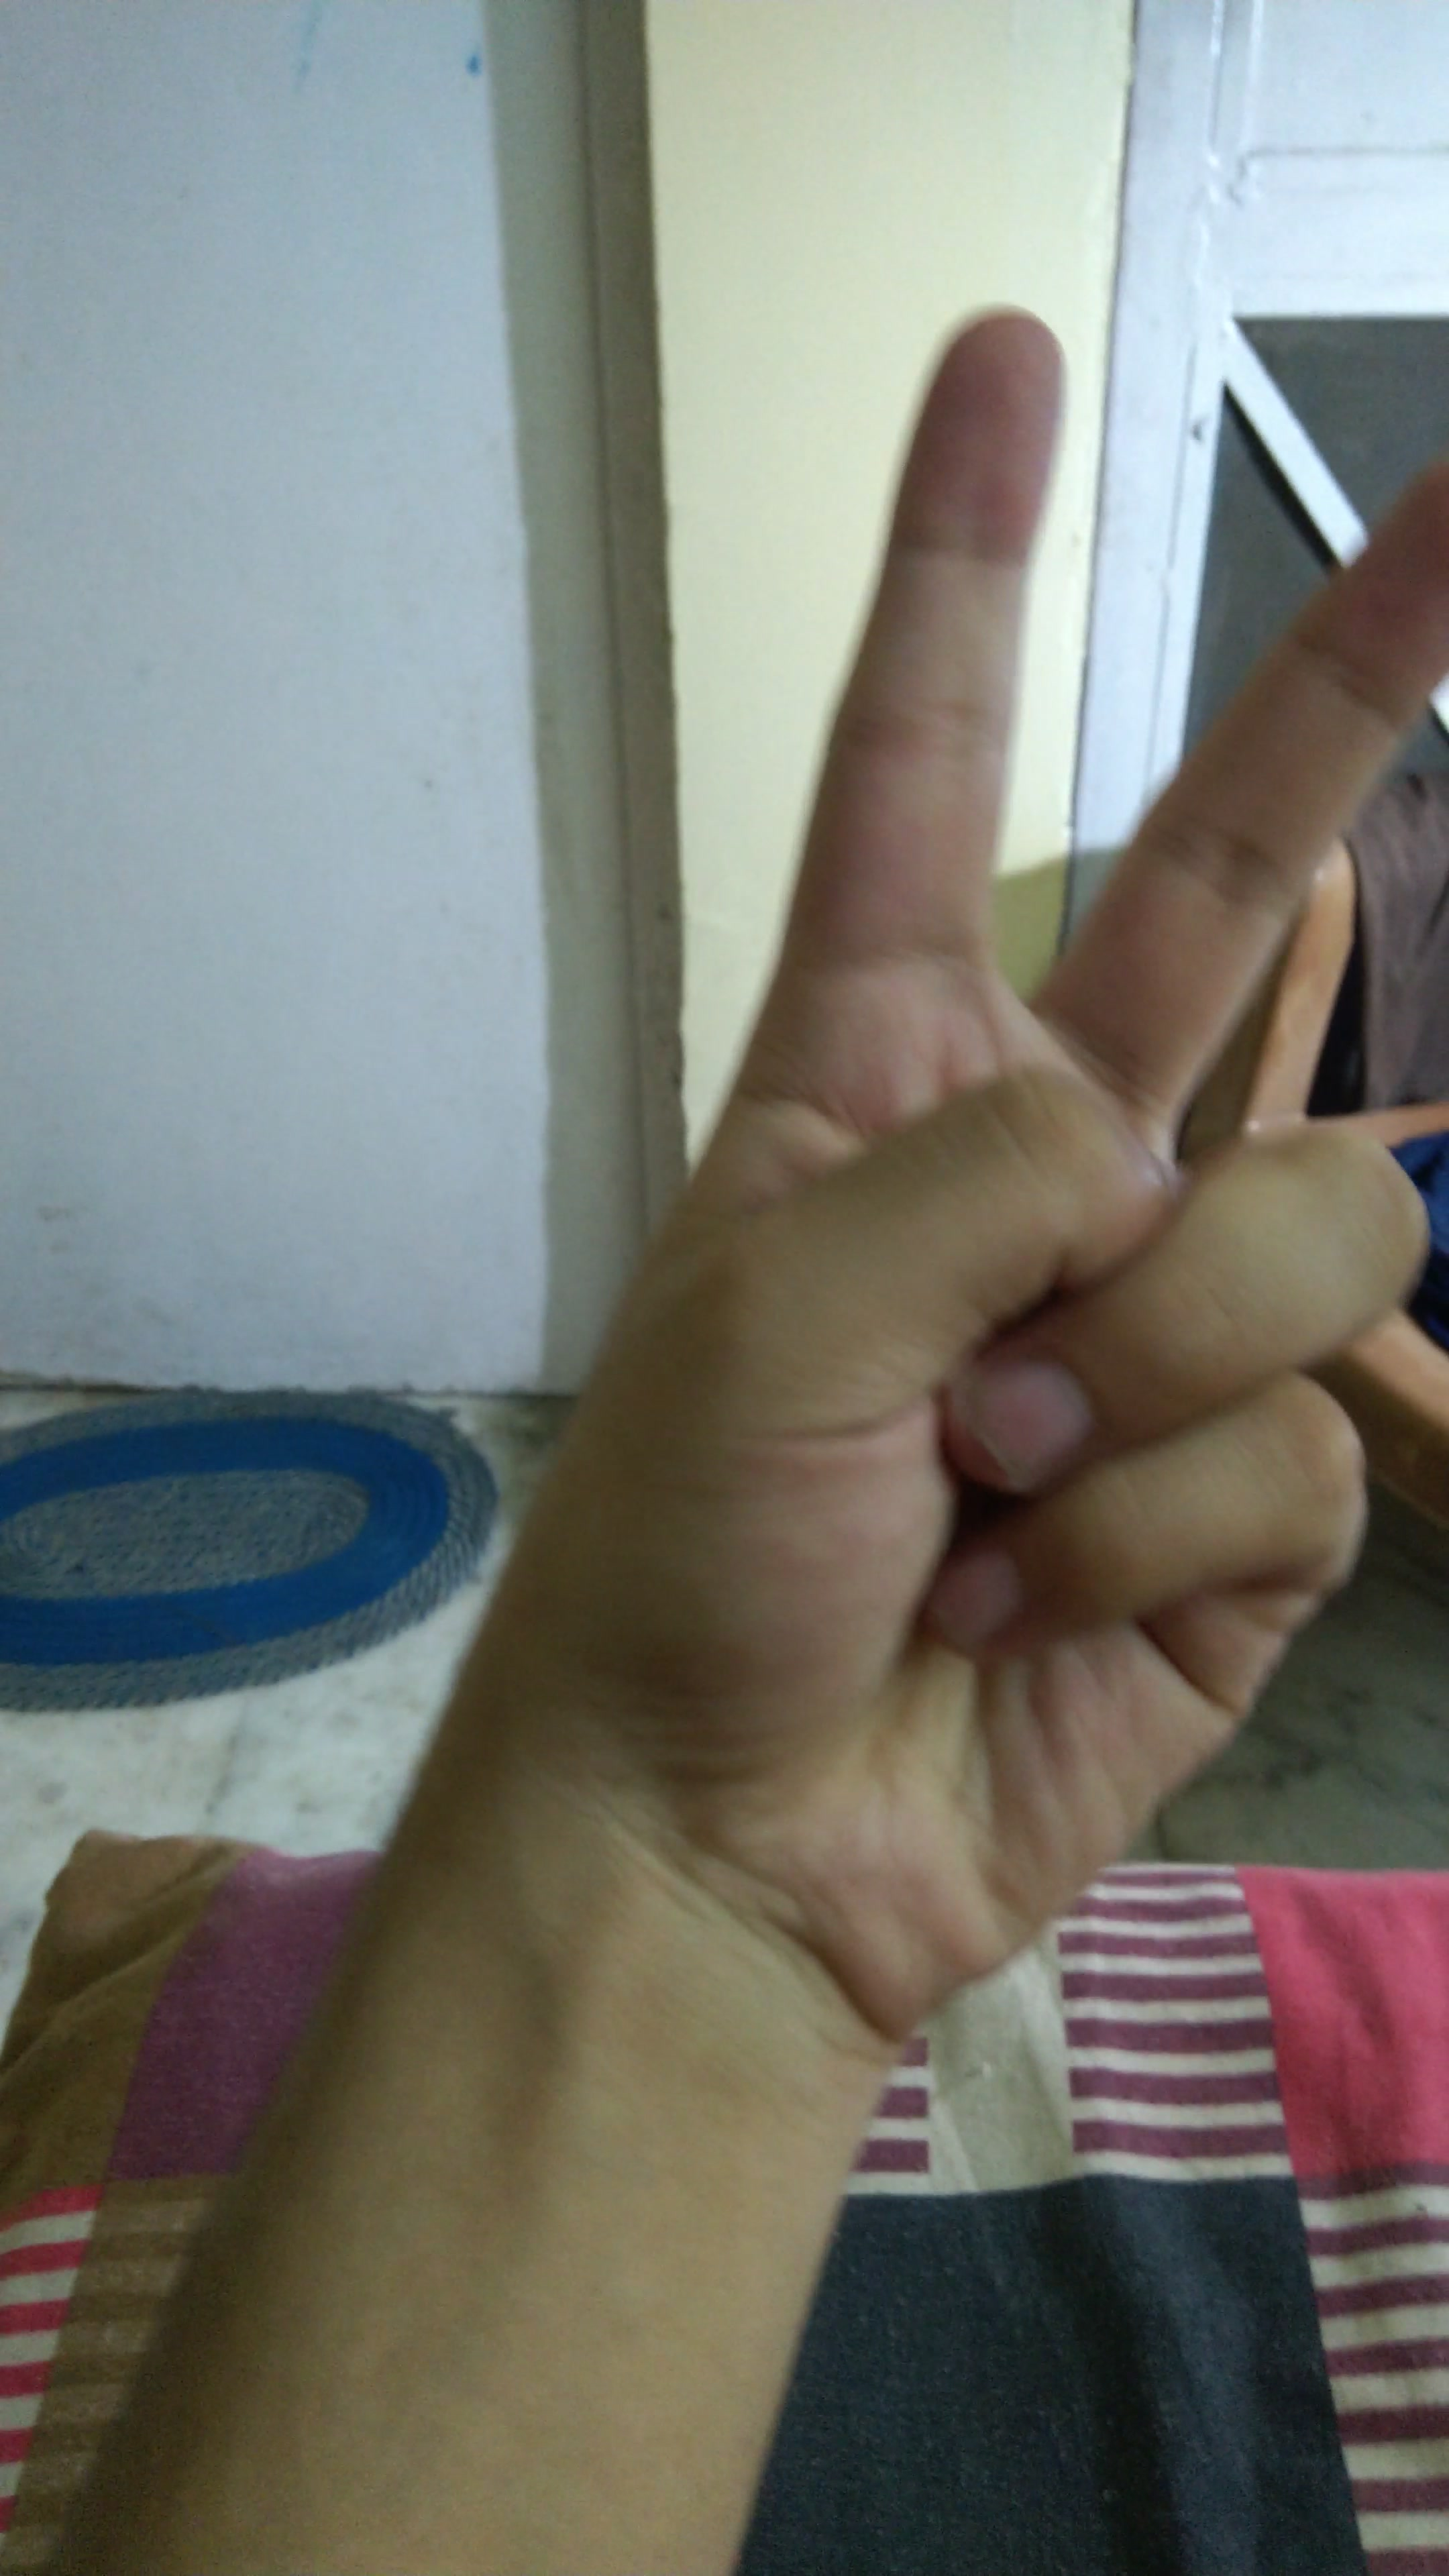hand: (432, 258, 1449, 2031)
